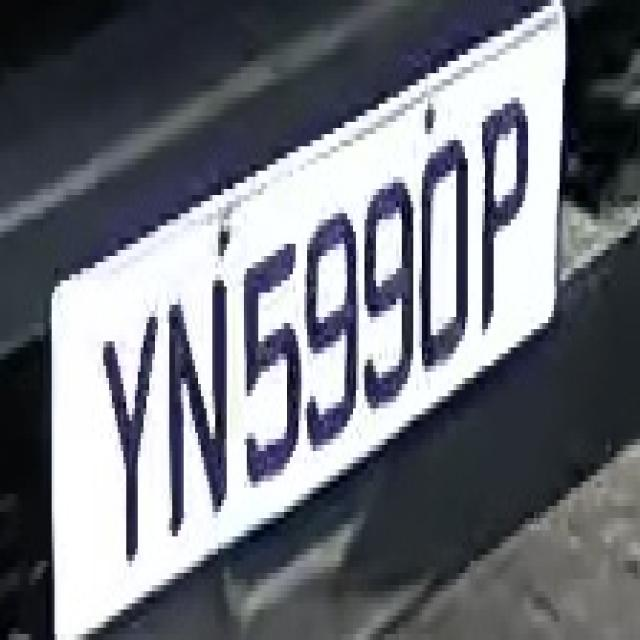0: (414, 122, 476, 378)
5: (241, 225, 304, 488)
9: (292, 201, 358, 457), (350, 164, 416, 414)
N: (158, 262, 241, 530)
P: (476, 91, 531, 342)
Y: (95, 286, 158, 567)
